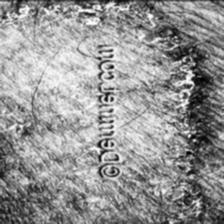Toxin: (130, 0, 210, 224)
